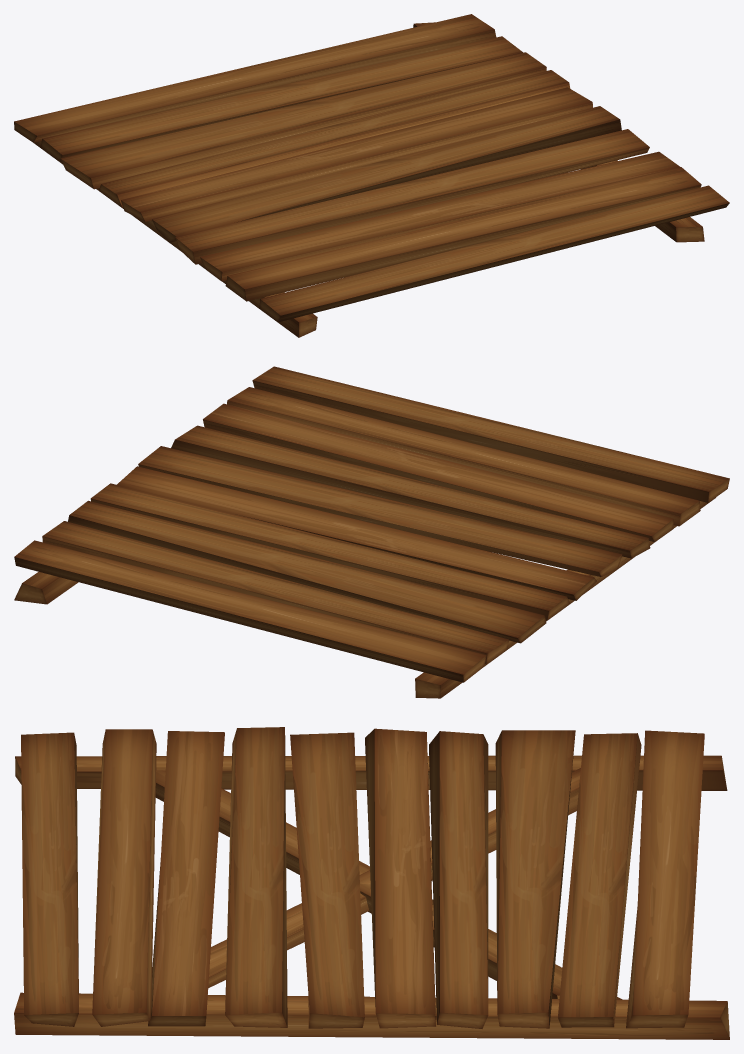
The model's file is Platform.001.fbx.
3 views of the same model, one above another, from view 1: azimuth 30°, elevation 25°; view 2: azimuth 150°, elevation 25°; view 3: azimuth 270°, elevation 25° (orthographic). The views are drawn at different scales.
Visible parts, largest first — view 1: Platform.001; view 2: Platform.001; view 3: Platform.001.
Part boxes in pixels (x1=…): Platform.001: x1=14, y1=14, x2=729, y2=337; Platform.001: x1=14, y1=366, x2=729, y2=698; Platform.001: x1=14, y1=727, x2=729, y2=1039.
Bounding box in the file's own units: 193 × 12.74 × 203.
